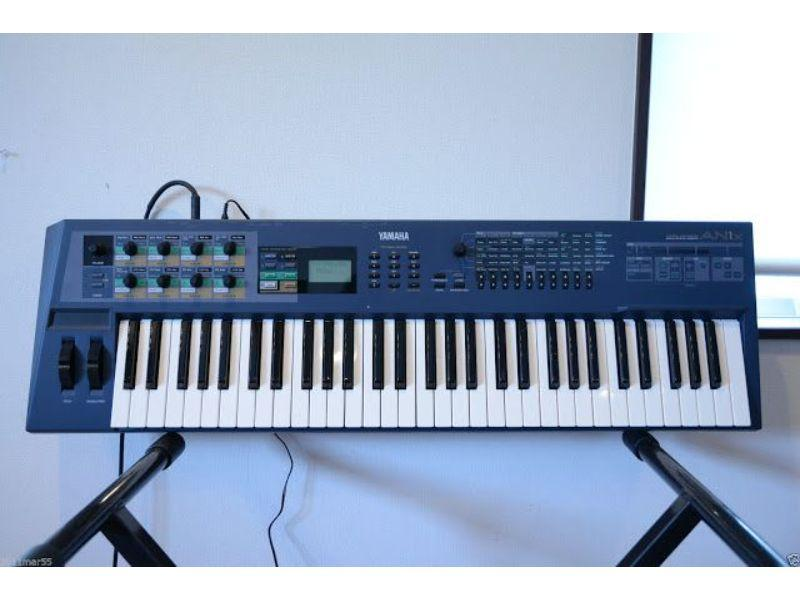synthesizer: (15, 204, 772, 433)
